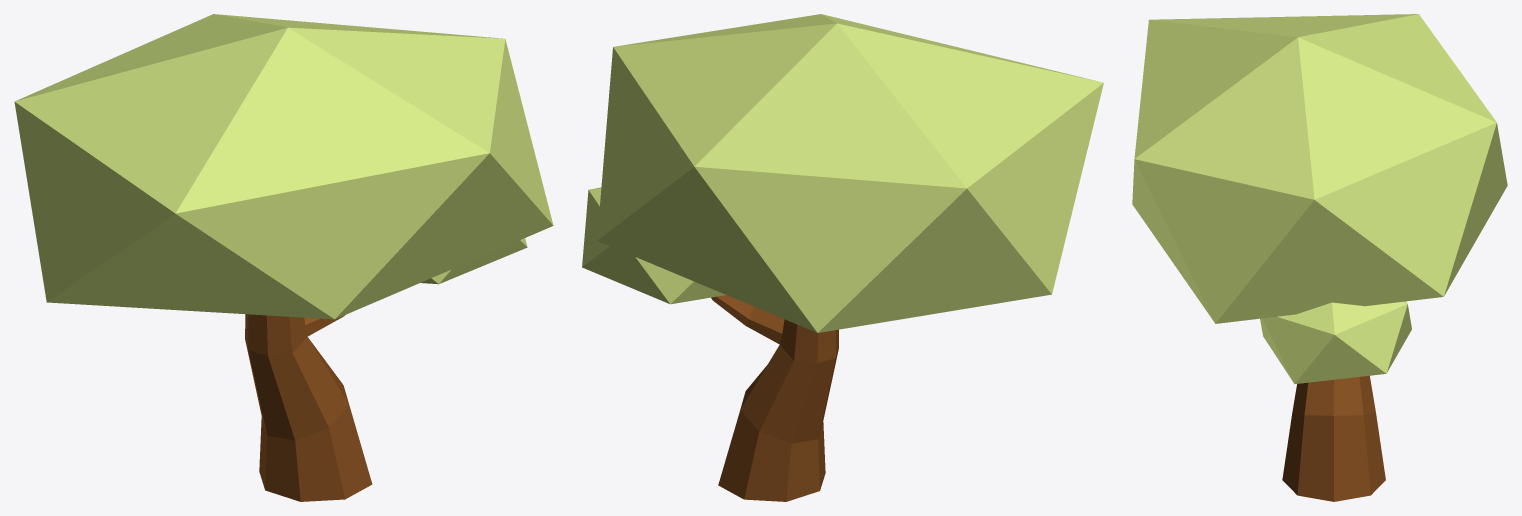
Rendered from bush2.glb.
The picture shows the model from 3 angles, left to right: view 1: azimuth 30°, elevation 25°; view 2: azimuth 150°, elevation 25°; view 3: azimuth 270°, elevation 25°; orthographic projection. The views are drawn at different scales.
Visible parts, largest first — view 1: Bush2; view 2: Bush2; view 3: Bush2.
Boxes of the visible parts, <box> form: Bush2: <box>14,14,553,501</box>; Bush2: <box>582,14,1103,501</box>; Bush2: <box>1132,14,1507,501</box>.
Size of the model in its own units: 0.9968 by 0.9567 by 0.7714.
